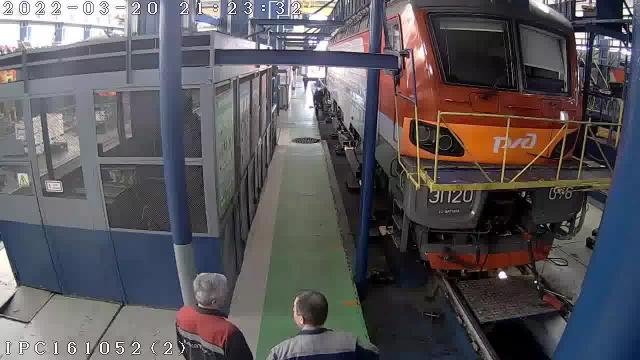person: (267, 290, 378, 359), (176, 273, 252, 359), (313, 89, 323, 117), (303, 76, 308, 89)
train: (376, 0, 585, 270)
